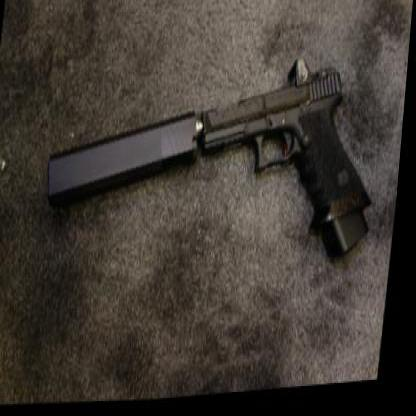pistol: (189, 46, 388, 276)
